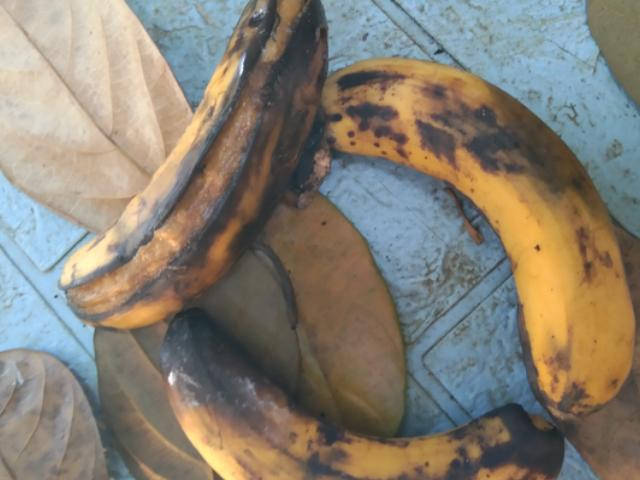overripe: (332, 32, 633, 416), (133, 295, 575, 479)
rotten: (52, 0, 344, 326)
